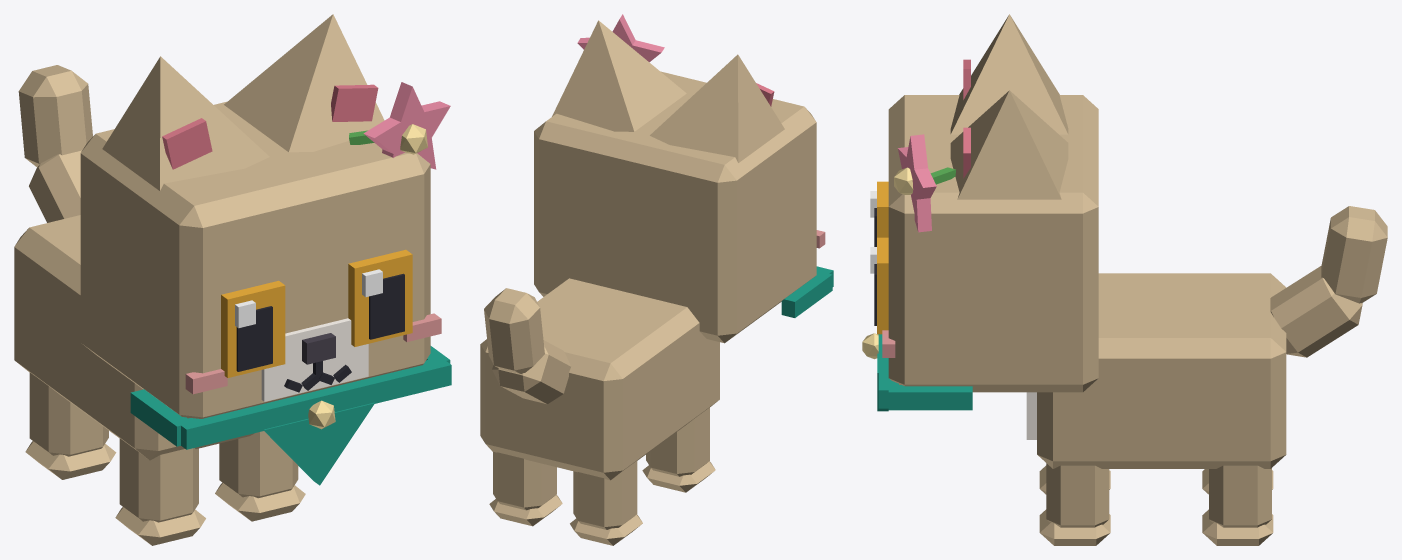
File: CatCafe_Cat_Fennec.fbx
3 renders of one model, left to right at view 1: azimuth 30°, elevation 25°; view 2: azimuth 150°, elevation 25°; view 3: azimuth 270°, elevation 25°, orthographic. The views are drawn at different scales.
Parts seen in each view (by area): view 1: CatCafe_Cat_Fennec_Head, CatCafe_Cat_Fennec_Body, CatCafe_Cat_Fennec_Prop, CatCafe_Cat_Fennec_EarL, CatCafe_Cat_Fennec_EarR, CatCafe_Cat_Fennec_Tail, CatCafe_Cat_Fennec_LegF2, CatCafe_Cat_Fennec_LegF1, CatCafe_Cat_Fennec_LegB2, CatCafe_Cat_Fennec_Eye2, CatCafe_Cat_Fennec_Eye1, CatCafe_Cat_Fennec_Prop2; view 2: CatCafe_Cat_Fennec_Head, CatCafe_Cat_Fennec_Body, CatCafe_Cat_Fennec_EarL, CatCafe_Cat_Fennec_EarR, CatCafe_Cat_Fennec_Tail, CatCafe_Cat_Fennec_LegB2, CatCafe_Cat_Fennec_LegB1, CatCafe_Cat_Fennec_LegF2, CatCafe_Cat_Fennec_Prop, CatCafe_Cat_Fennec_Prop2; view 3: CatCafe_Cat_Fennec_Head, CatCafe_Cat_Fennec_Body, CatCafe_Cat_Fennec_Tail, CatCafe_Cat_Fennec_EarL, CatCafe_Cat_Fennec_EarR, CatCafe_Cat_Fennec_LegF1, CatCafe_Cat_Fennec_LegB1, CatCafe_Cat_Fennec_Prop, CatCafe_Cat_Fennec_Prop2, CatCafe_Cat_Fennec_Eye1, CatCafe_Cat_Fennec_Eye2.
Boxes of the visible parts, x1,y1,x2,y2 form: CatCafe_Cat_Fennec_Head: [80, 101, 441, 418]; CatCafe_Cat_Fennec_Body: [14, 215, 254, 460]; CatCafe_Cat_Fennec_Prop: [130, 346, 451, 485]; CatCafe_Cat_Fennec_EarL: [224, 14, 384, 152]; CatCafe_Cat_Fennec_EarR: [102, 56, 269, 190]; CatCafe_Cat_Fennec_Tail: [18, 65, 92, 222]; CatCafe_Cat_Fennec_LegF2: [115, 438, 205, 545]; CatCafe_Cat_Fennec_LegF1: [215, 431, 305, 521]; CatCafe_Cat_Fennec_LegB2: [25, 372, 116, 479]; CatCafe_Cat_Fennec_Eye2: [221, 280, 285, 377]; CatCafe_Cat_Fennec_Eye1: [348, 249, 412, 346]; CatCafe_Cat_Fennec_Prop2: [349, 82, 450, 169]; CatCafe_Cat_Fennec_Head: [534, 71, 825, 343]; CatCafe_Cat_Fennec_Body: [480, 278, 719, 480]; CatCafe_Cat_Fennec_EarL: [552, 20, 686, 131]; CatCafe_Cat_Fennec_EarR: [650, 54, 784, 162]; CatCafe_Cat_Fennec_Tail: [484, 288, 570, 404]; CatCafe_Cat_Fennec_LegB2: [570, 461, 642, 545]; CatCafe_Cat_Fennec_LegB1: [489, 451, 562, 526]; CatCafe_Cat_Fennec_LegF2: [642, 407, 715, 492]; CatCafe_Cat_Fennec_Prop: [781, 266, 833, 317]; CatCafe_Cat_Fennec_Prop2: [577, 14, 664, 62]; CatCafe_Cat_Fennec_Head: [882, 95, 1098, 392]; CatCafe_Cat_Fennec_Body: [1026, 273, 1286, 468]; CatCafe_Cat_Fennec_Tail: [1270, 206, 1387, 357]; CatCafe_Cat_Fennec_EarL: [950, 90, 1068, 199]; CatCafe_Cat_Fennec_EarR: [950, 14, 1068, 134]; CatCafe_Cat_Fennec_LegF1: [1039, 463, 1110, 545]; CatCafe_Cat_Fennec_LegB1: [1202, 465, 1273, 545]; CatCafe_Cat_Fennec_Prop: [862, 333, 972, 411]; CatCafe_Cat_Fennec_Prop2: [894, 134, 955, 232]; CatCafe_Cat_Fennec_Eye1: [870, 237, 888, 334]; CatCafe_Cat_Fennec_Eye2: [870, 181, 888, 246].
Bounding box in the file's own units: 1.17 × 1.95 × 2.
Materials: 1 (1 with a texture image).
